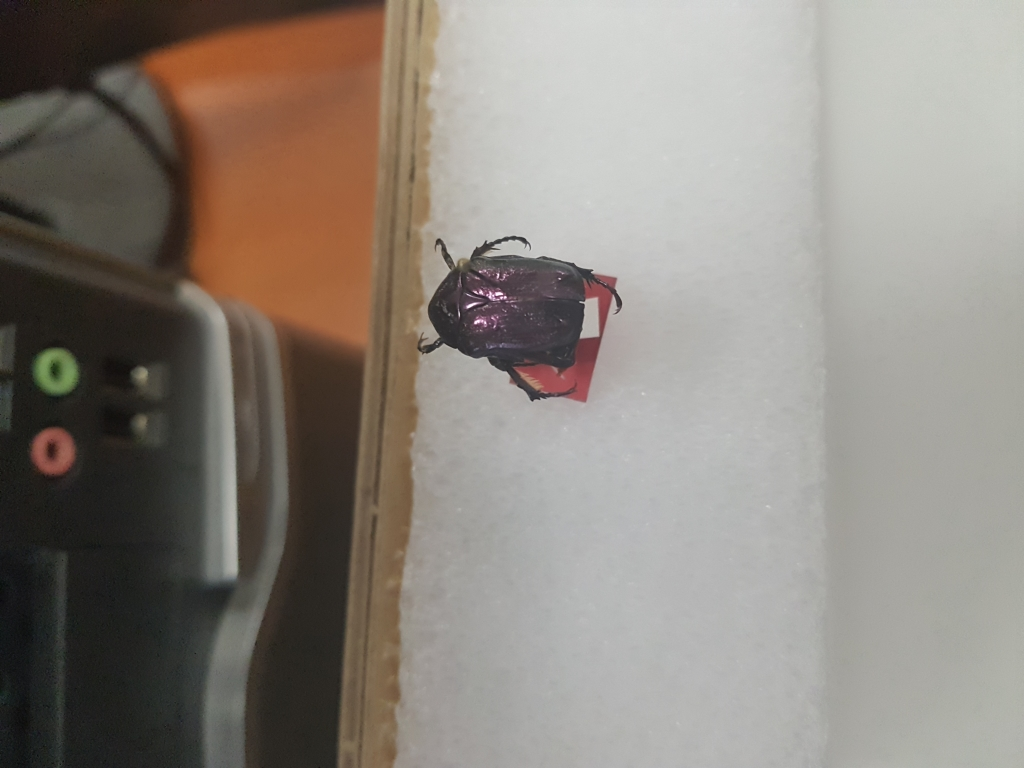Protaetia_besucheti: (411, 224, 634, 420)
